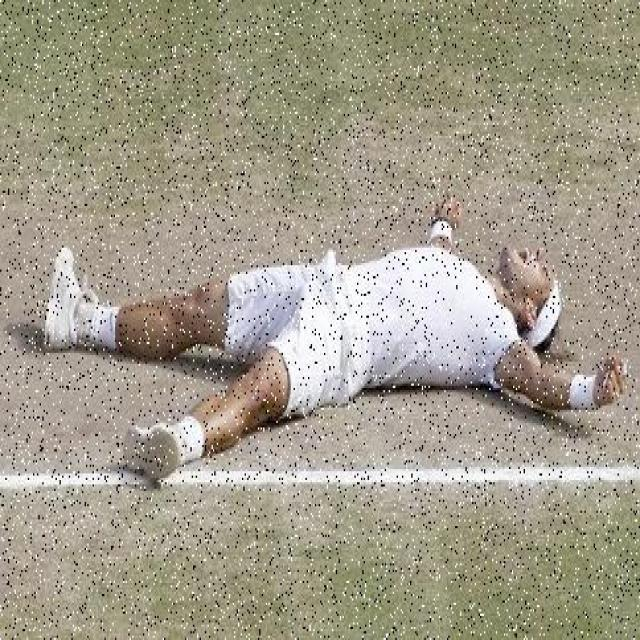fall: (46, 217, 626, 445)
